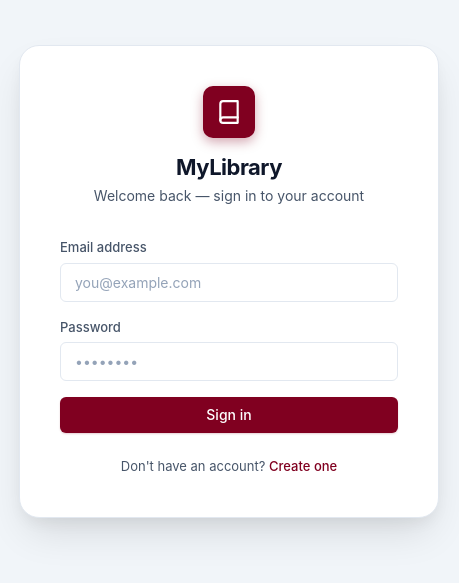
it: Login page › shows an error message on login failure
Type "a@b.com" into the field labelled "Email address".
click(229, 282); type("a@b.com")  # box [60, 262, 398, 302]
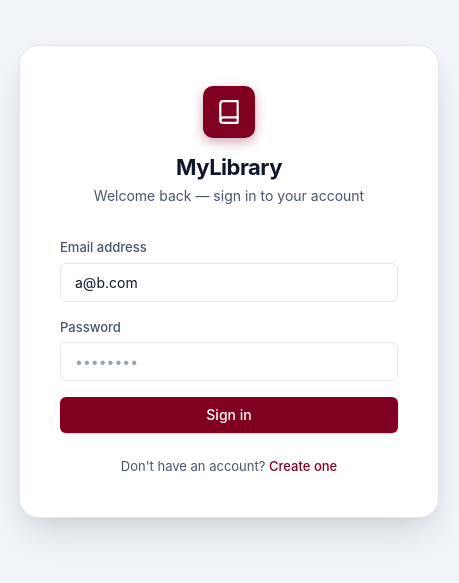
Type "wrong" into the password field labelled "Password".
click(229, 362); type("wrong")  # box [60, 342, 398, 381]
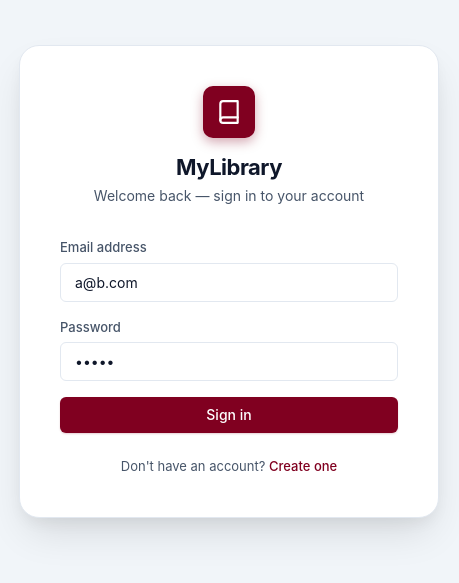
Click the button "Sign in".
click(229, 415)  # box [60, 397, 398, 433]
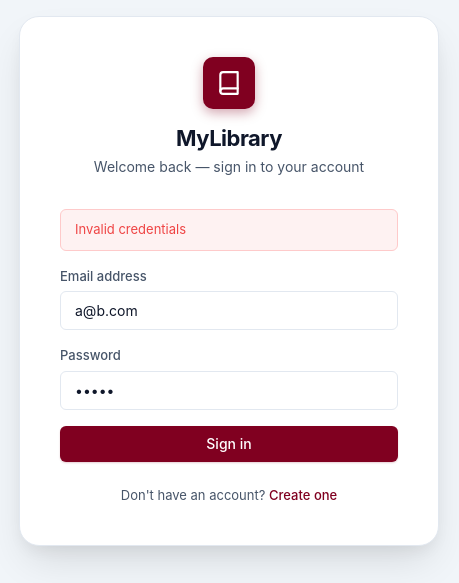
Check: the text "Invalid credentials" is shown, box [60, 209, 398, 251]
